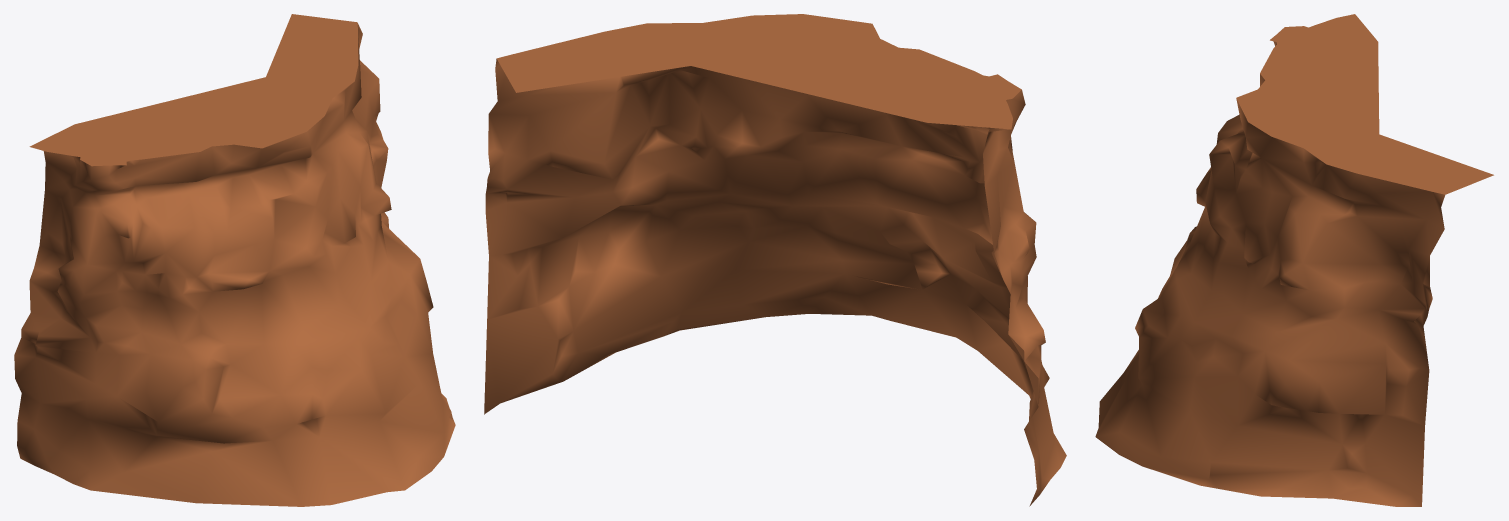
The model's file is Cliff_Wall01.FBX.
3 views of the same model, side by side, from view 1: azimuth 30°, elevation 25°; view 2: azimuth 150°, elevation 25°; view 3: azimuth 270°, elevation 25° (orthographic). The views are drawn at different scales.
Visible parts, largest first — view 1: Cliff_Wall01; view 2: Cliff_Wall01; view 3: Cliff_Wall01.
Part boxes in pixels (x1,y1,x2,y2): Cliff_Wall01: (14,14,455,506); Cliff_Wall01: (484,14,1066,506); Cliff_Wall01: (1095,14,1493,506).
Bounding box in the file's own units: 2392 × 1696 × 2015.
